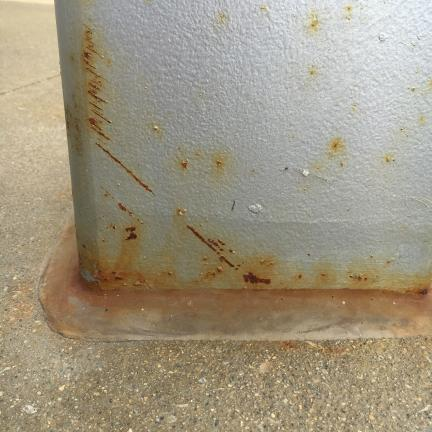besi_tidak_karat: (1, 0, 432, 432), (55, 0, 432, 244)
karat: (54, 22, 432, 292)
